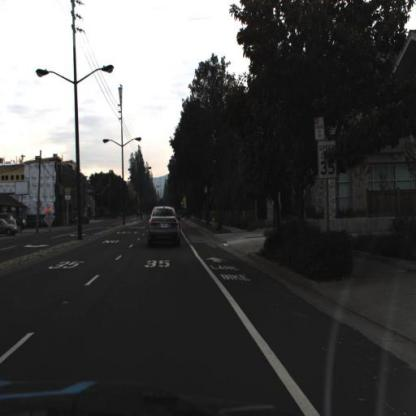car: (145, 204, 183, 250), (2, 208, 21, 242), (1, 217, 22, 238)
